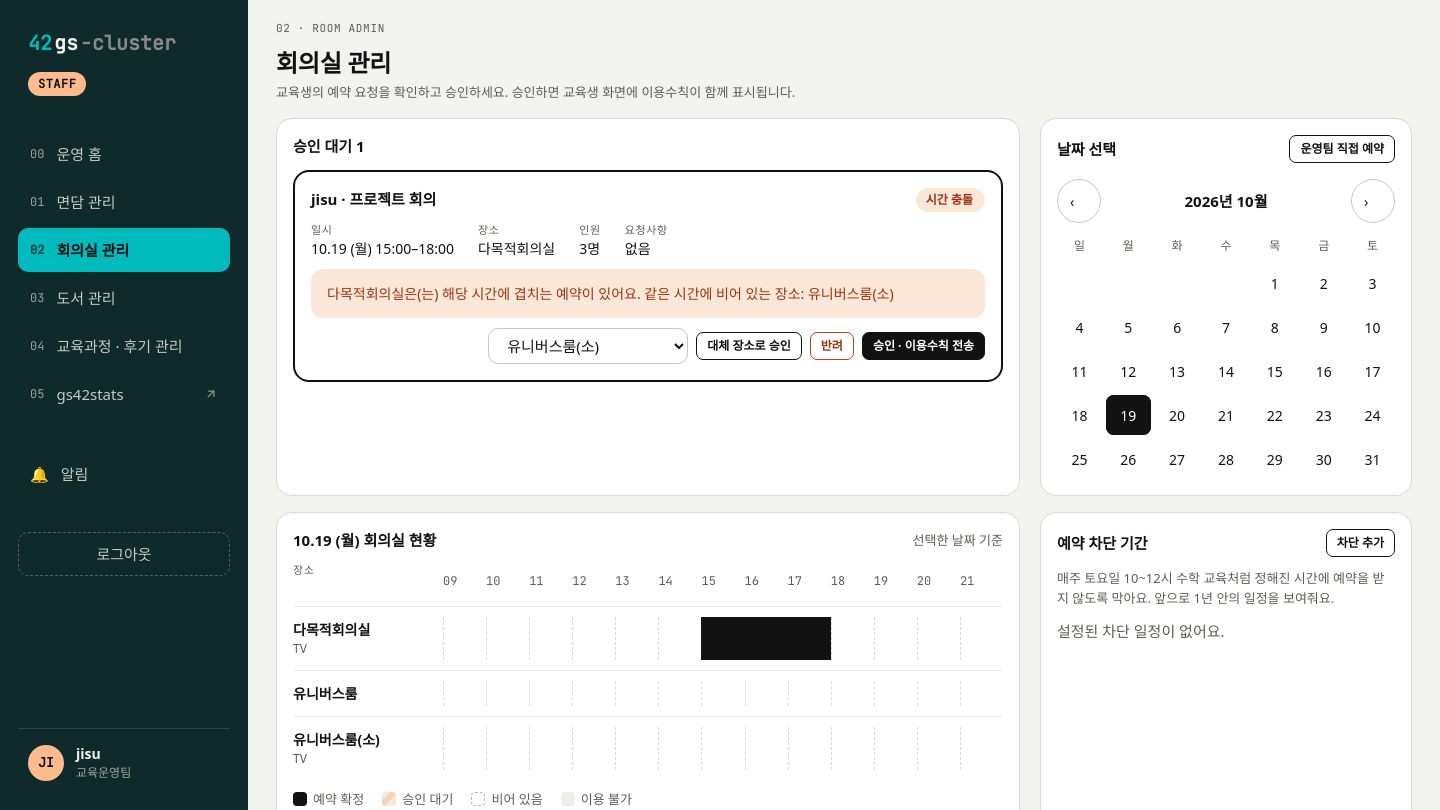
it: 운영 회의실 관리 화면 › 반려는 사유가 필수이고 사유를 보낸다
Check: the heading "회의실 관리" is shown, box [276,46,391,78]
Click the button "반려" at (832, 346), box [810,332,854,360]
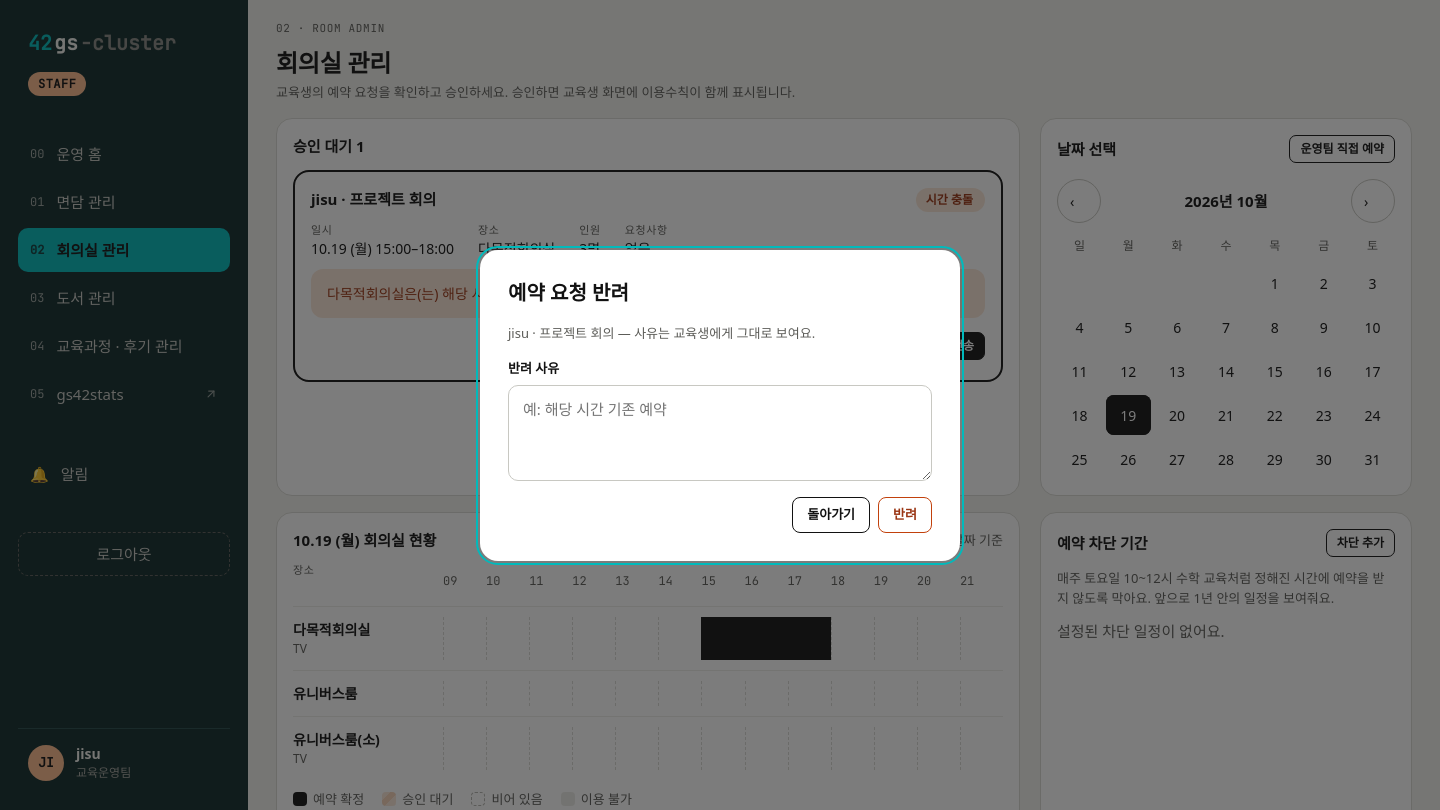
Click the button "반려" at (905, 514), box [878,496,932,532]
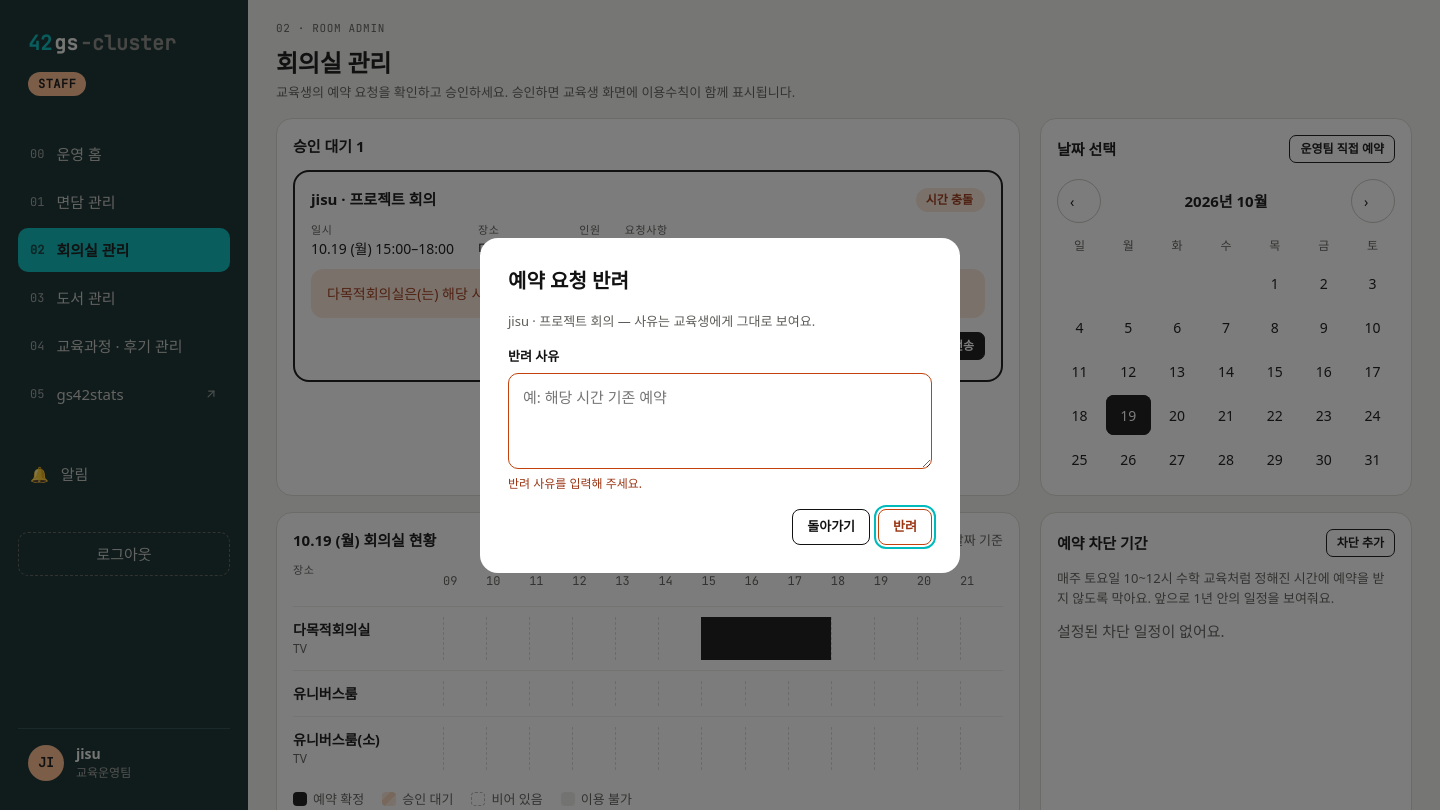
Check: the text "반려 사유를 입력해 주세요." is shown, box [508,474,642,492]
Type "해당 시간 기존 예약" into the text box labelled "반려 사유" at (720, 420), box [508,372,932,468]
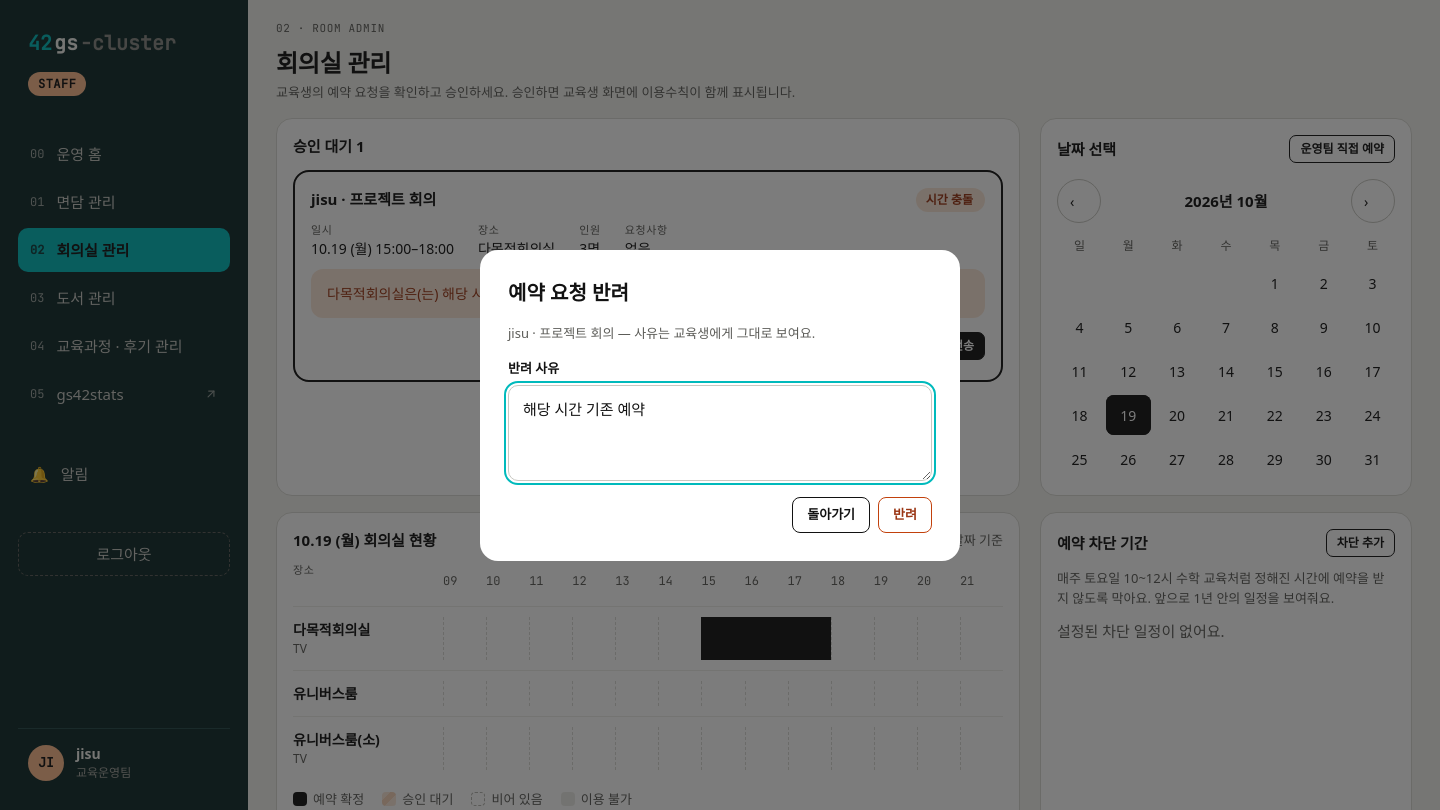
Click the button "반려" at (905, 514), box [878,496,932,532]
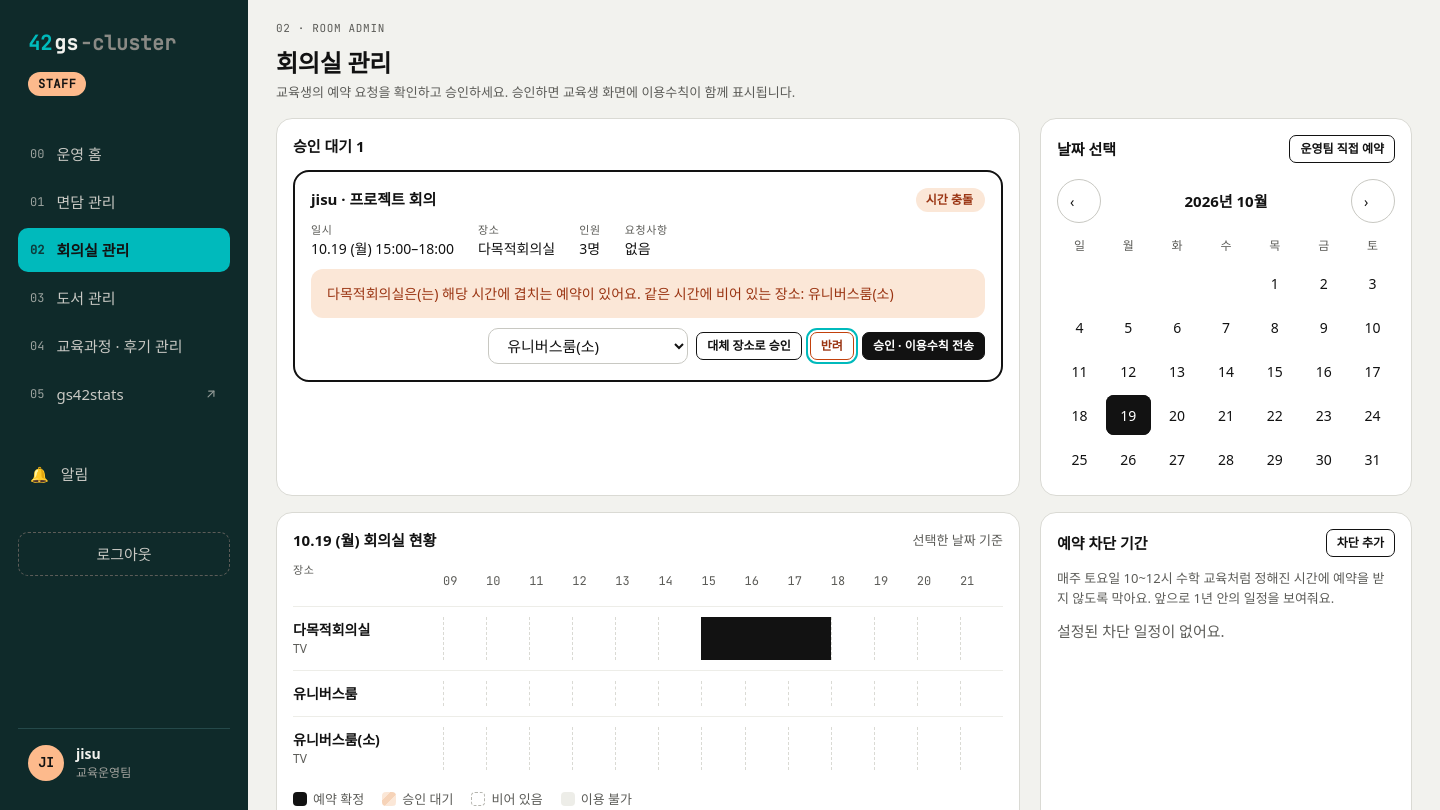
Check: the dialog is gone
